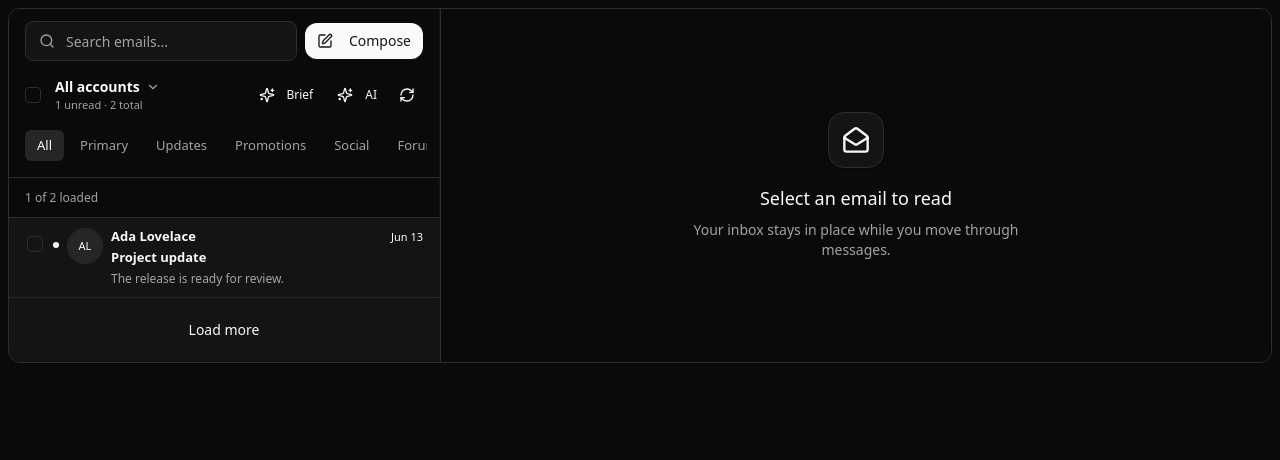
it: InboxList › loads cached cursor pages before asking the provider for more
expect the text "Project update" is shown: met, box x1=111 y1=248 x2=206 y2=266
Click the button "Load more": (224, 330) x1=177 y1=314 x2=272 y2=346
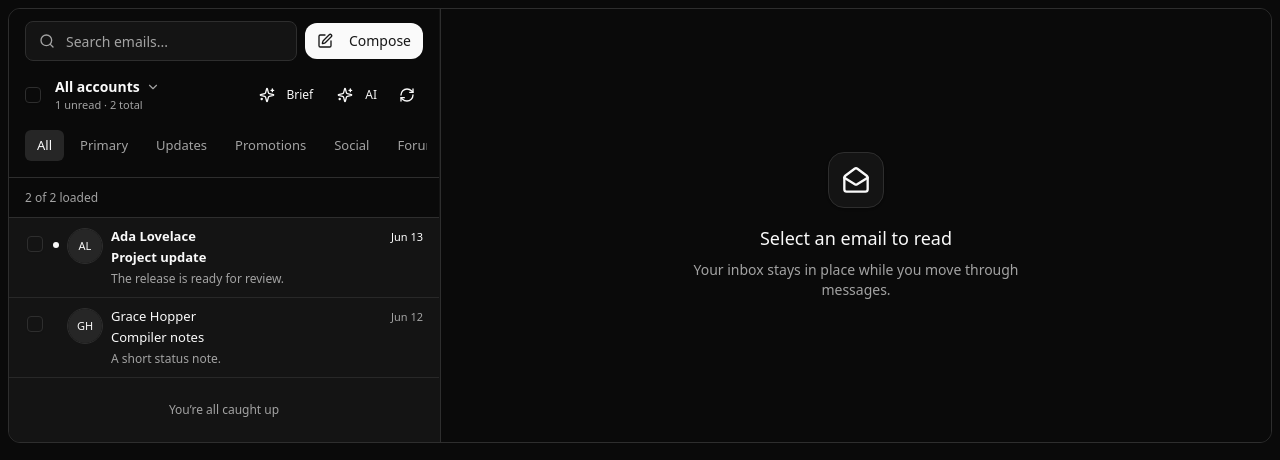
expect the text "Compiler notes" is shown: met, box x1=111 y1=328 x2=204 y2=346
